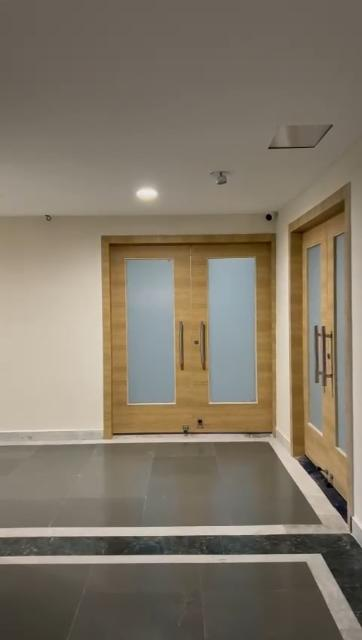door: (104, 230, 278, 434), (292, 220, 360, 490)
floor: (0, 439, 362, 637)
wall: (0, 215, 98, 423)
